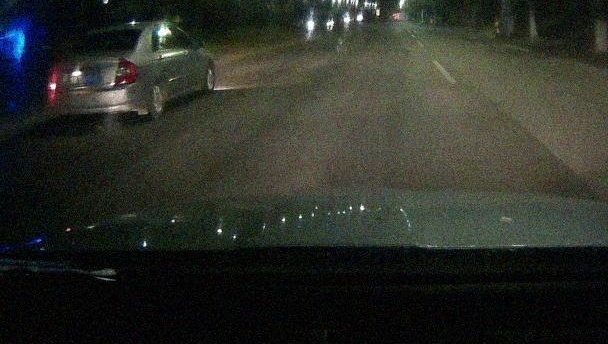L_light: (46, 71, 61, 95)
R_light: (114, 59, 138, 86)
T_light: (95, 30, 114, 36)
night-left: (46, 21, 145, 125)
